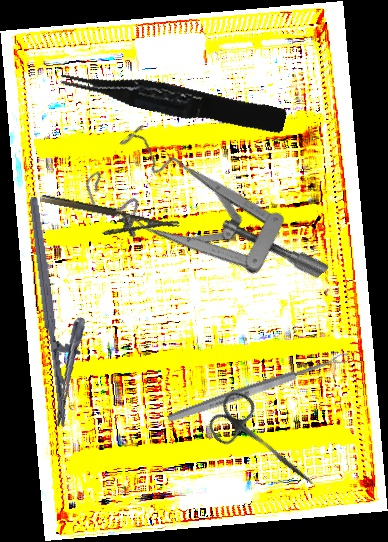Iris Scissors: (201, 385, 333, 505)
Needle Holder: (27, 192, 99, 429), (35, 192, 181, 250)
Speculum: (71, 90, 333, 359)
Surgical Spoon: (166, 351, 350, 425)
Tissue Forceps: (58, 54, 288, 144)
